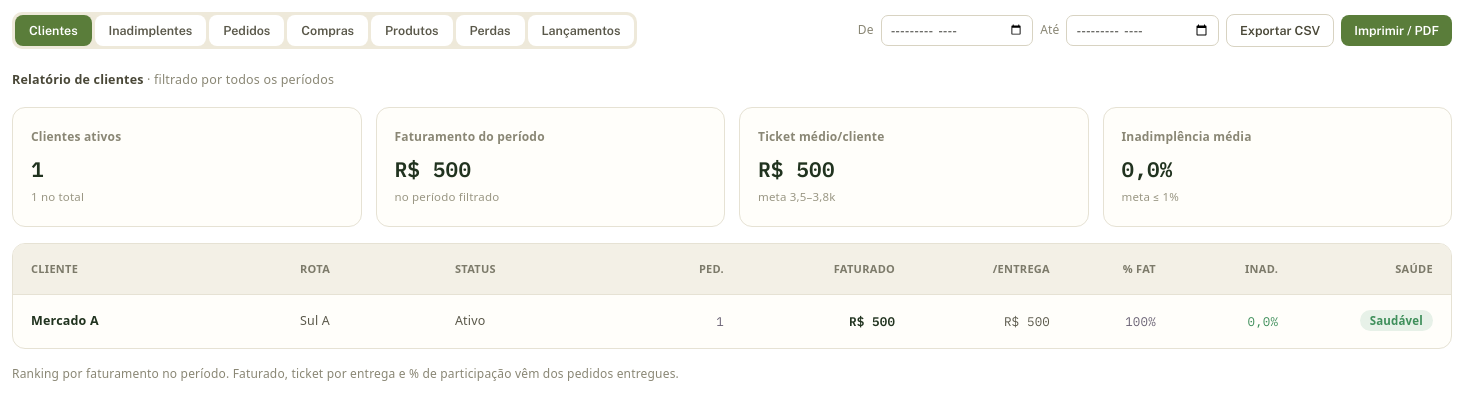
Test: RelatoriosTela — filtro de periodo › "Limpar período" volta a mostrar tudo
Expected: the text "Mercado A" is shown, x1=31 y1=312 x2=99 y2=330
In the field labelled "De": (957, 30) x1=881 y1=15 x2=1033 y2=46, type "2026-06"
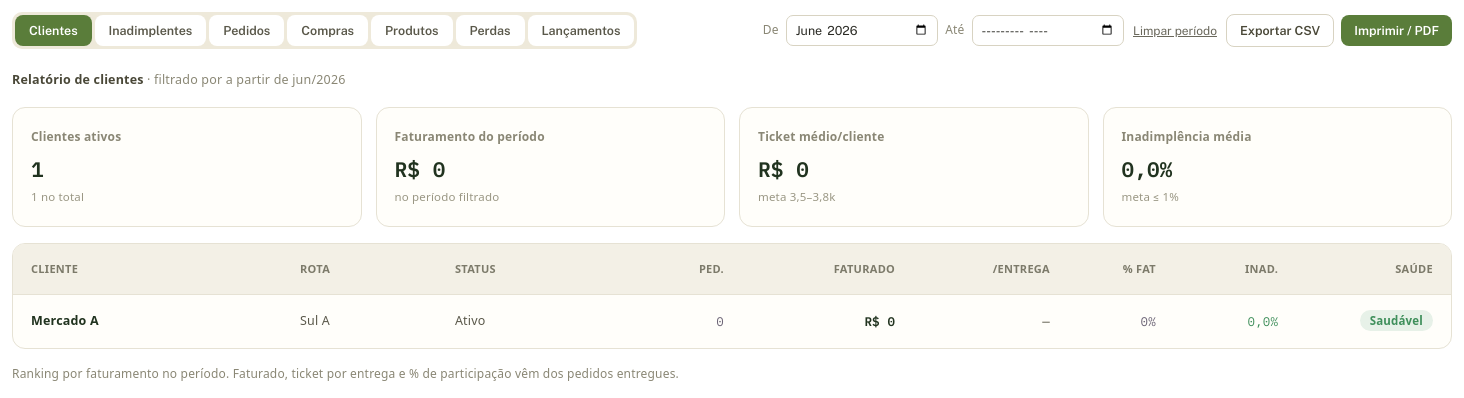
Expected: the text "R$ 0" below "Faturamento do período" is shown, x1=394 y1=155 x2=446 y2=183
Click the button "Limpar período": (1175, 30) x1=1131 y1=20 x2=1219 y2=42
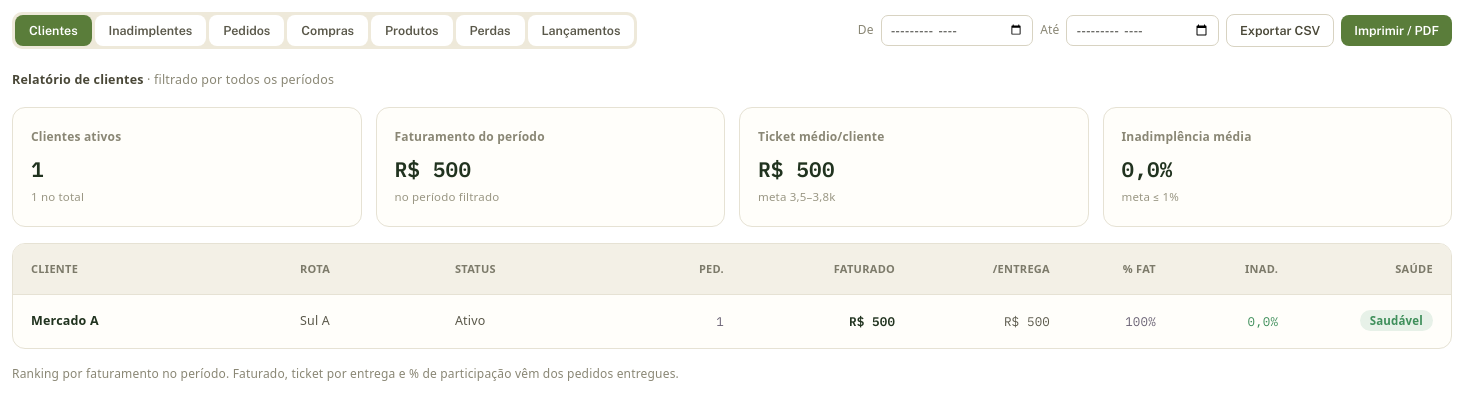
Expected: the text "R$ 500" below "Faturamento do período" is shown, x1=394 y1=155 x2=471 y2=183
